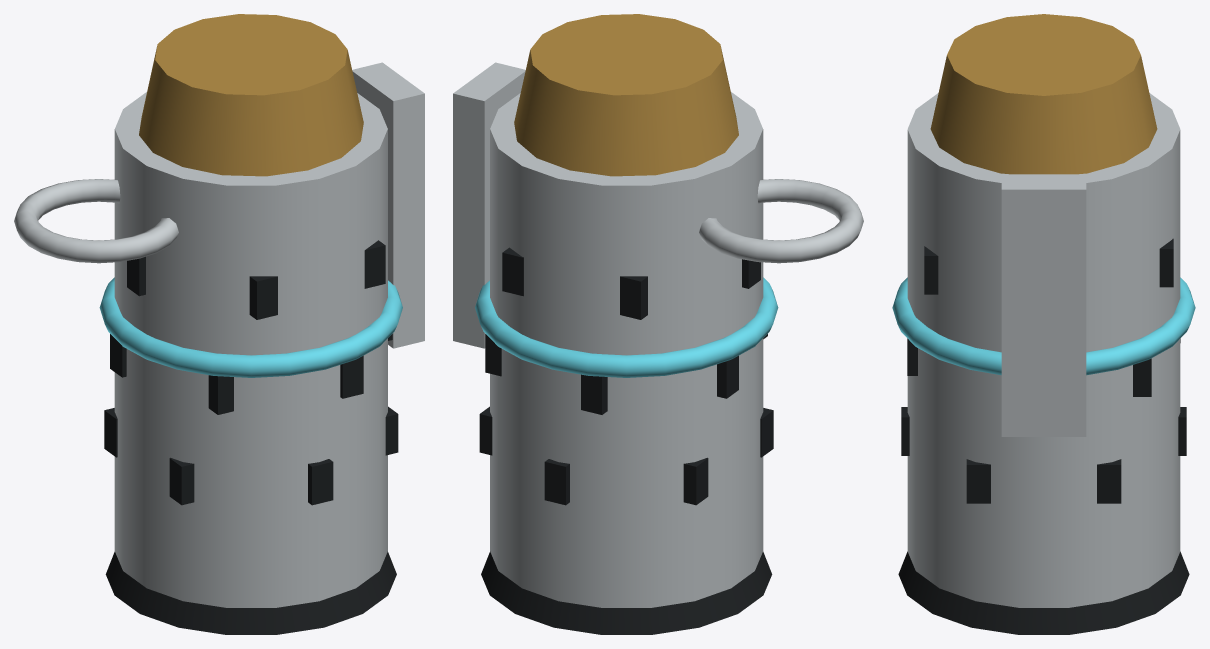
The model's file is flash.glb.
The picture shows the model from 3 angles, left to right: view 1: azimuth 30°, elevation 25°; view 2: azimuth 150°, elevation 25°; view 3: azimuth 270°, elevation 25°; orthographic projection.
Parts seen in each view (by area): view 1: flash; view 2: flash; view 3: flash.
Boxes of the visible parts, left/top/right/bottom form: flash: left=14, top=14, right=424, bottom=634; flash: left=453, top=14, right=863, bottom=634; flash: left=892, top=14, right=1195, bottom=634.
Bounding box in the file's own units: 0.144 × 0.189 × 0.1.
